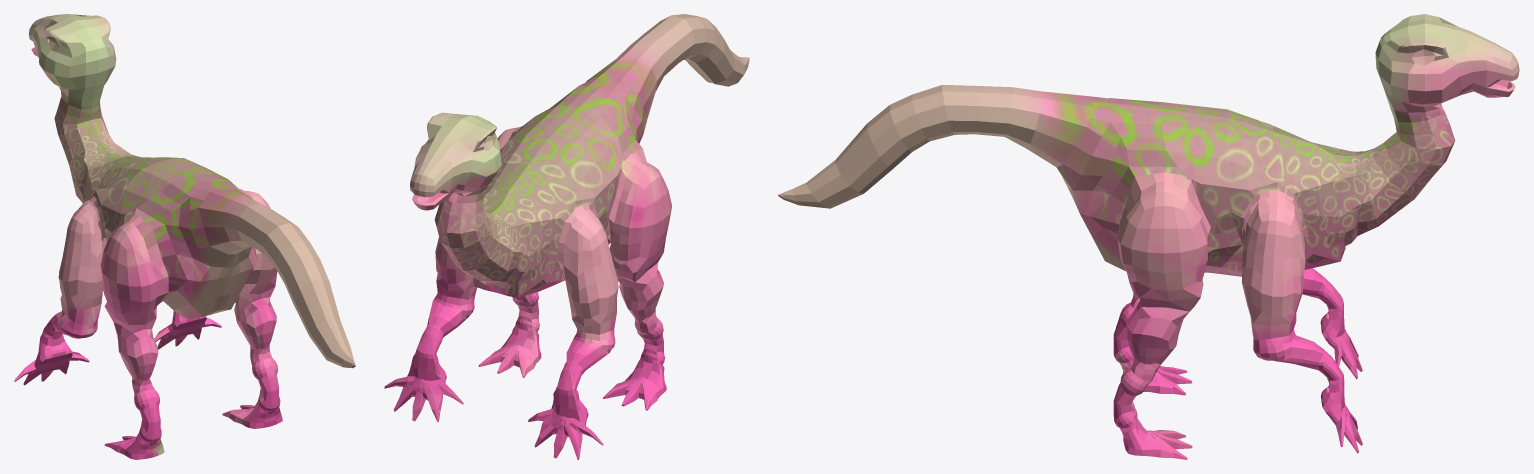
The model's file is dinoAAA.fbx.
3 views of the same model, side by side, from view 1: azimuth 30°, elevation 25°; view 2: azimuth 150°, elevation 25°; view 3: azimuth 270°, elevation 25° (orthographic). The views are drawn at different scales.
Visible parts, largest first — view 1: NurbsPath; view 2: NurbsPath; view 3: NurbsPath.
Part boxes in pixels (x1=…): NurbsPath: x1=14, y1=14, x2=355, y2=459; NurbsPath: x1=384, y1=14, x2=749, y2=459; NurbsPath: x1=778, y1=14, x2=1519, y2=459.
Bounding box in the file's own units: 5.71 × 8.77 × 15.09.
Materials: 1 (1 with a texture image).
